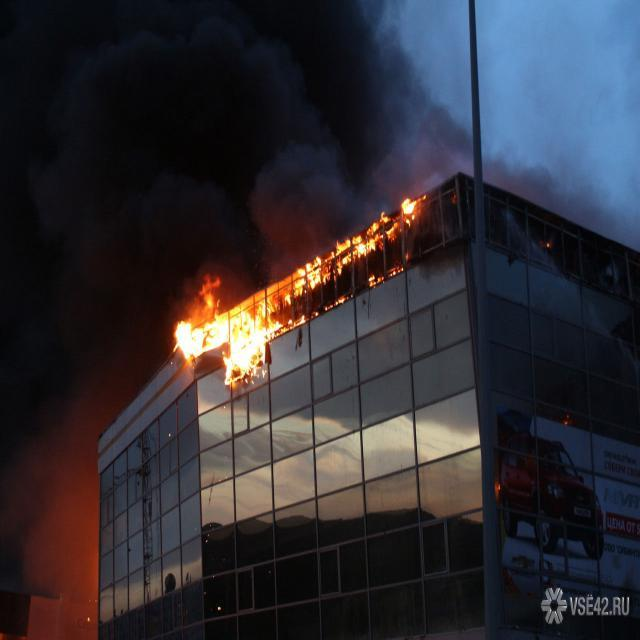Fire: (172, 187, 428, 386)
Smoke: (0, 0, 580, 417)
